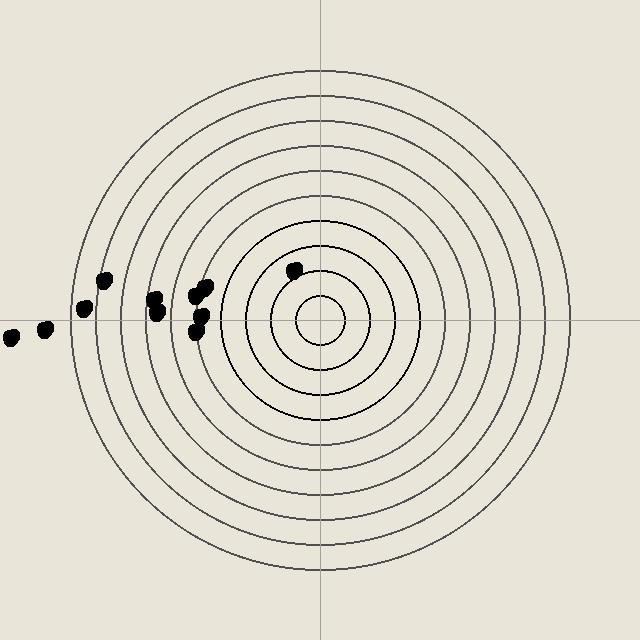horizontal_scatter: (93, 270, 113, 290), (0, 327, 20, 347), (185, 285, 205, 305), (34, 319, 54, 339), (73, 298, 93, 318), (146, 302, 166, 322), (194, 277, 214, 297), (283, 260, 303, 280), (190, 306, 210, 326), (185, 321, 205, 341), (143, 289, 163, 309)
